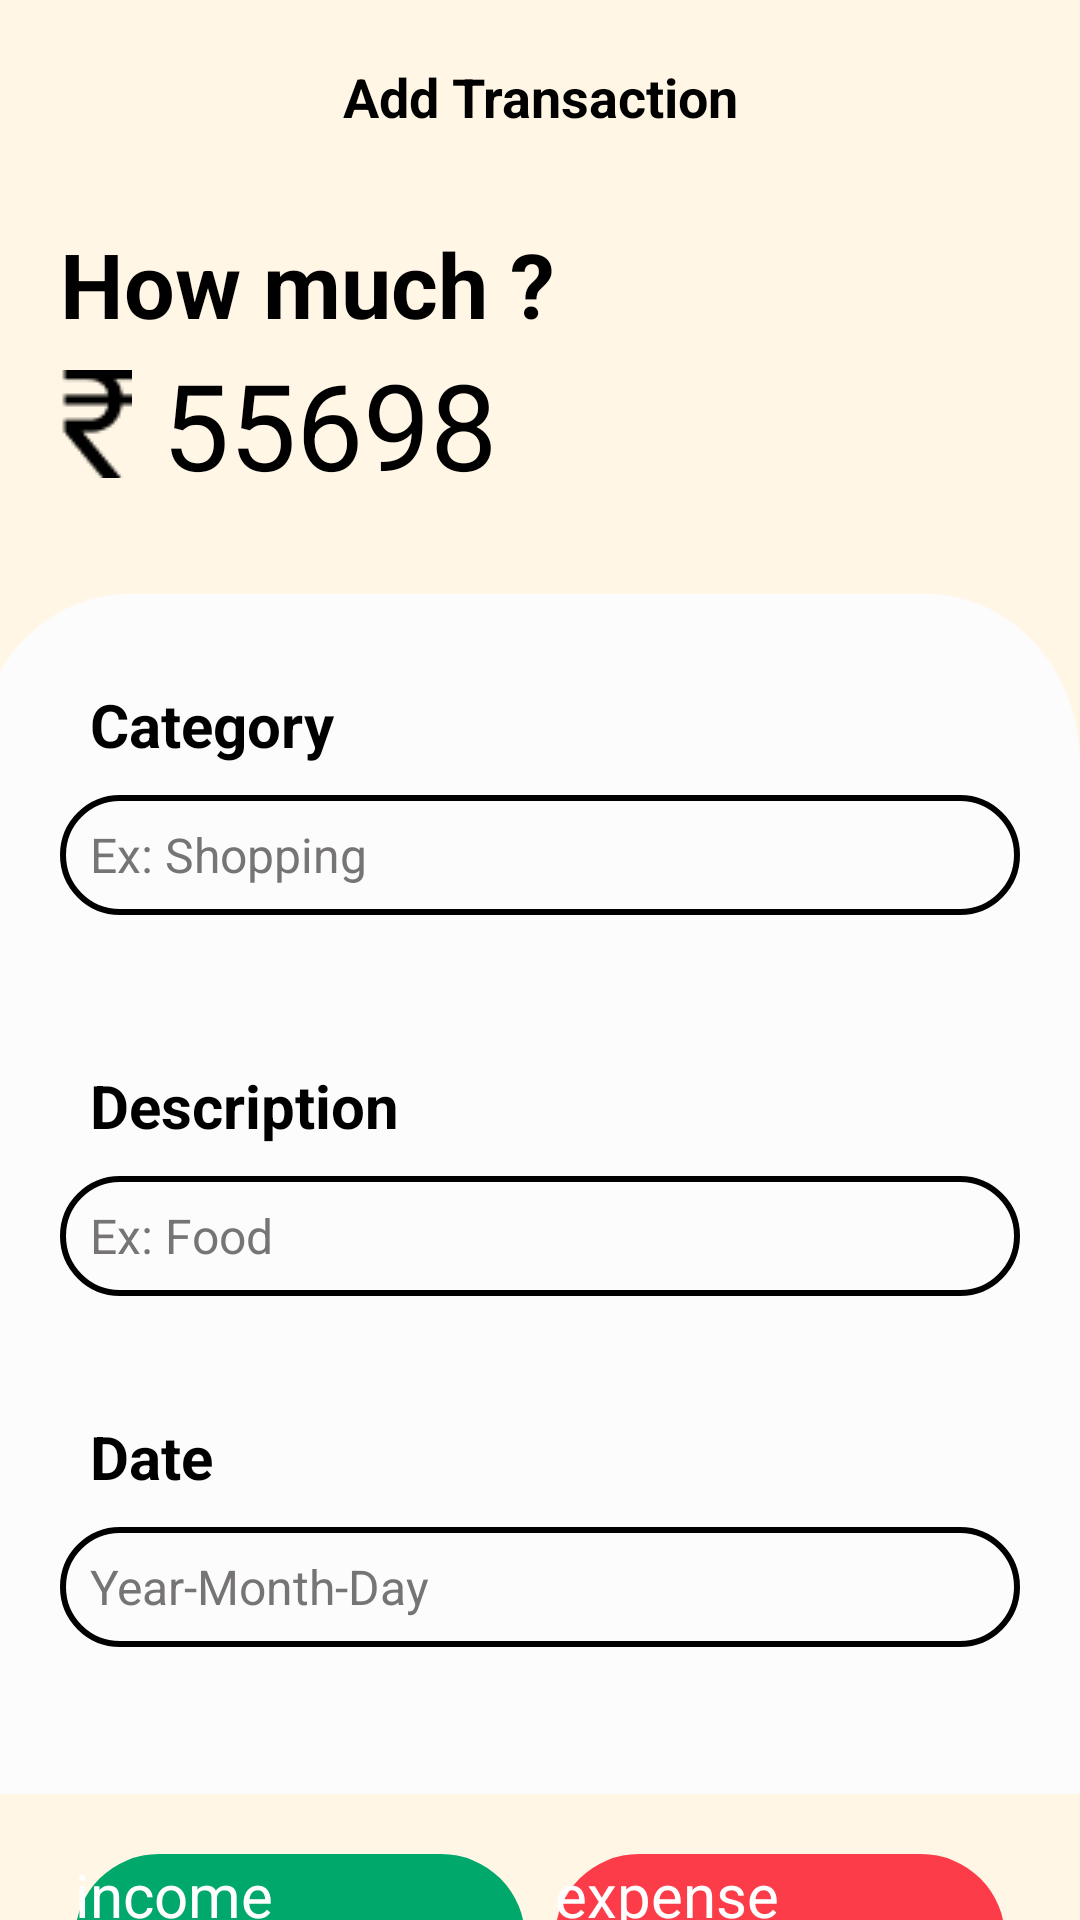

Icon click points for this 1080px x 1920px phone screenshot, format [x,y]:
money: [97,424]
